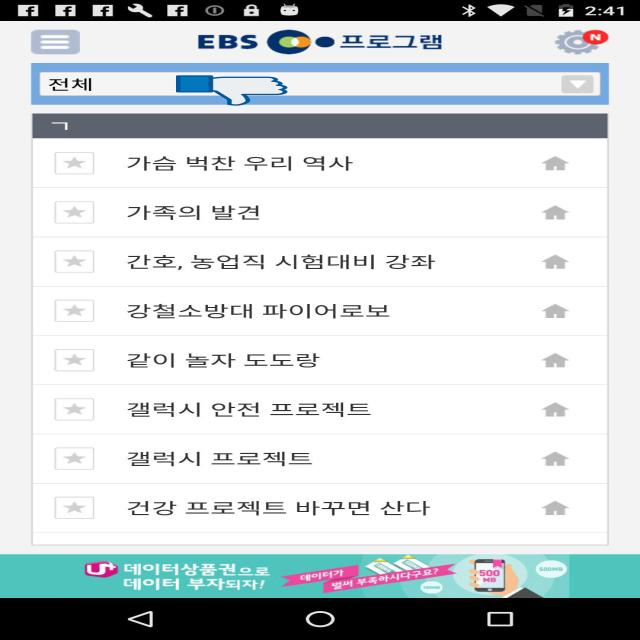obstruction: (176, 75, 287, 106)
